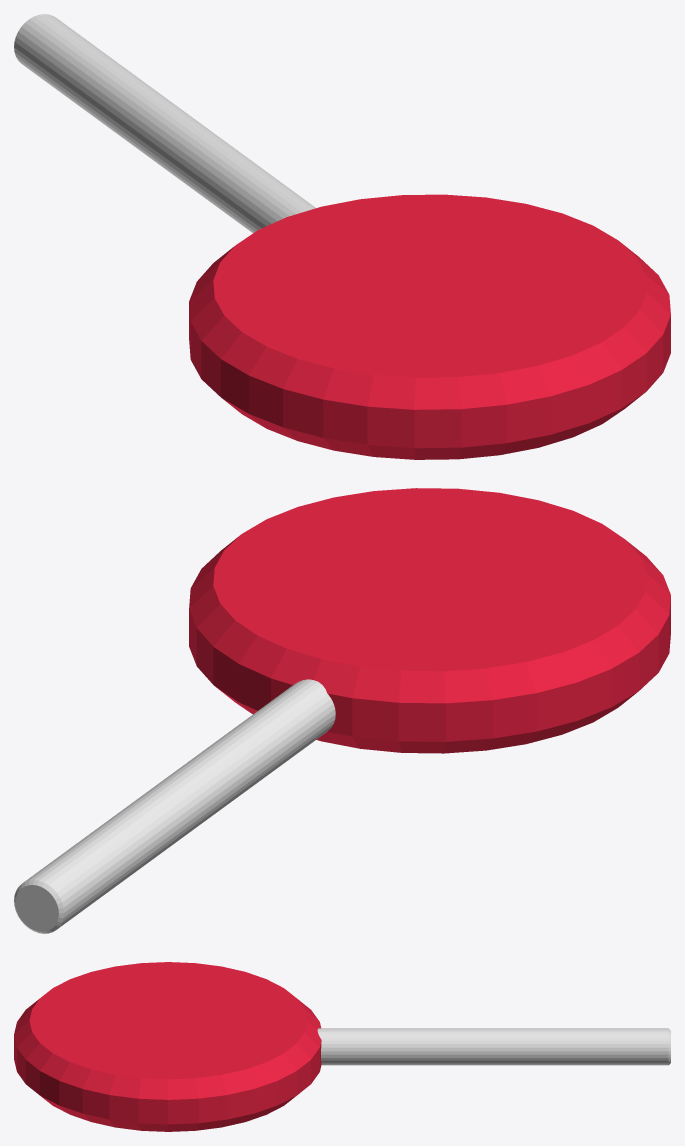
Rendered from Lolipop.fbx.
The picture shows the model from 3 angles, top to bottom: view 1: azimuth 30°, elevation 25°; view 2: azimuth 150°, elevation 25°; view 3: azimuth 270°, elevation 25°; orthographic projection. The views are drawn at different scales.
Visible parts, largest first — view 1: lolipop; view 2: lolipop; view 3: lolipop.
Part boxes in pixels (box(x1,y1,x2,y2)): lolipop: box(14, 14, 670, 459); lolipop: box(14, 488, 670, 933); lolipop: box(14, 962, 670, 1131).
Size of the model in its own units: 66.57 by 12.5 by 142.
